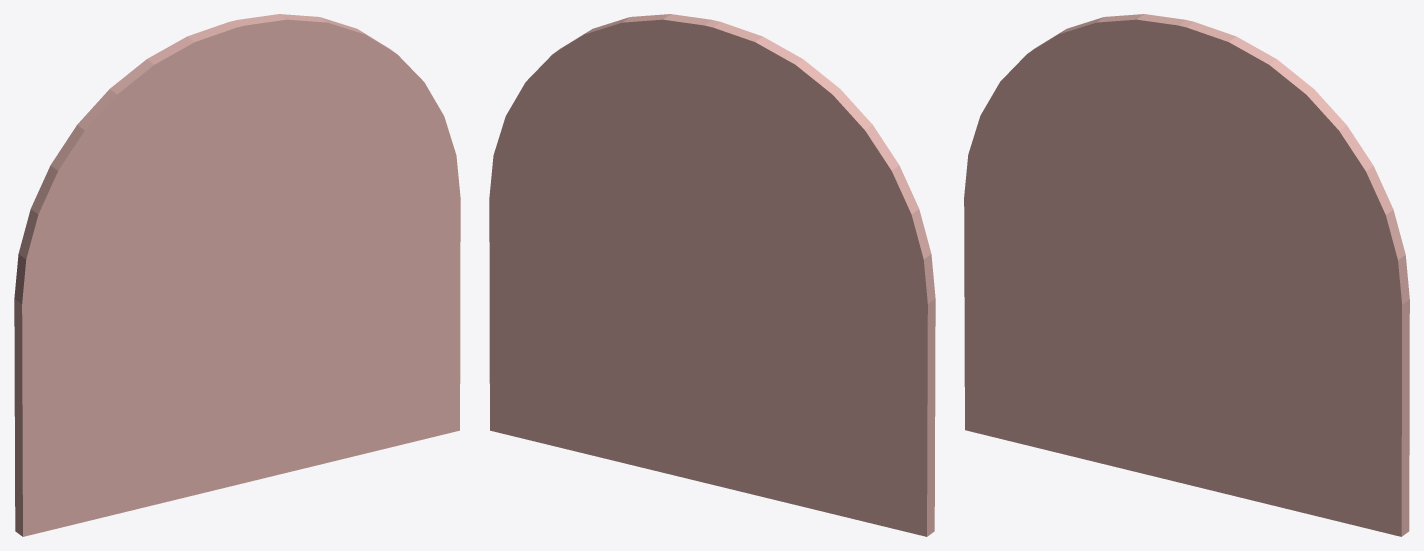
The model's file is Dor.original.fbx.
3 views of the same model, side by side, from view 1: azimuth 30°, elevation 25°; view 2: azimuth 150°, elevation 25°; view 3: azimuth 330°, elevation 25° (orthographic).
Visible parts, largest first — view 1: Plane.006; view 2: Plane.006; view 3: Plane.006.
Boxes of the visible parts, left/top/right/bottom form: Plane.006: left=14, top=14, right=460, bottom=536; Plane.006: left=489, top=14, right=935, bottom=536; Plane.006: left=964, top=14, right=1409, bottom=536.
Bounding box in the file's own units: 439 × 438 × 13.42.
